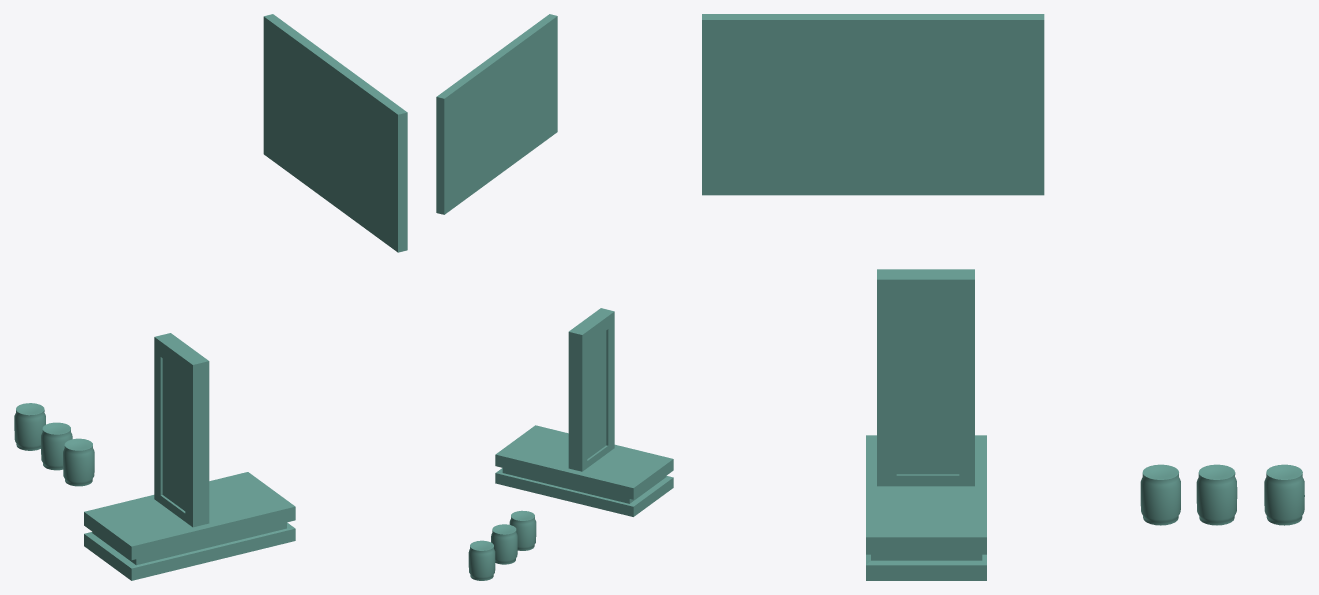
Rendered from DebrisObjects_V2.2.fbx.
3 renders of one model, left to right at view 1: azimuth 30°, elevation 25°; view 2: azimuth 150°, elevation 25°; view 3: azimuth 270°, elevation 25°, orthographic. The views are drawn at different scales.
Parts seen in each view (by area): view 1: KeepOutSign_V2, FlerpBase_V2, FlerpSign_V2, SodaCan1_V2, SodaCan3_V2, SodaCan2_V2; view 2: KeepOutSign_V2, FlerpBase_V2, FlerpSign_V2, SodaCan3_V2, SodaCan2_V2, SodaCan1_V2; view 3: KeepOutSign_V2, FlerpSign_V2, FlerpBase_V2, SodaCan2_V2, SodaCan3_V2, SodaCan1_V2.
Part boxes in pixels (box(x1,y1,x2,y2)): KeepOutSign_V2: box(263, 14, 407, 252); FlerpBase_V2: box(84, 472, 295, 580); FlerpSign_V2: box(154, 333, 209, 527); SodaCan1_V2: box(63, 438, 94, 486); SodaCan3_V2: box(14, 403, 45, 450); SodaCan2_V2: box(41, 422, 72, 470); KeepOutSign_V2: box(436, 14, 557, 214); FlerpBase_V2: box(495, 425, 673, 516); FlerpSign_V2: box(568, 308, 614, 471); SodaCan3_V2: box(468, 540, 495, 580); SodaCan2_V2: box(491, 524, 517, 564); SodaCan1_V2: box(509, 510, 536, 550); KeepOutSign_V2: box(702, 14, 1044, 195); FlerpSign_V2: box(877, 269, 974, 486); FlerpBase_V2: box(866, 435, 986, 580); SodaCan2_V2: box(1196, 464, 1237, 525); SodaCan3_V2: box(1264, 464, 1304, 525); SodaCan1_V2: box(1140, 464, 1180, 525).
Size of the model in its own units: 157 by 328 by 304.
